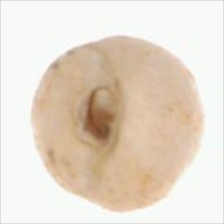L3: (76, 81, 122, 144)
L4: (30, 35, 204, 211)
